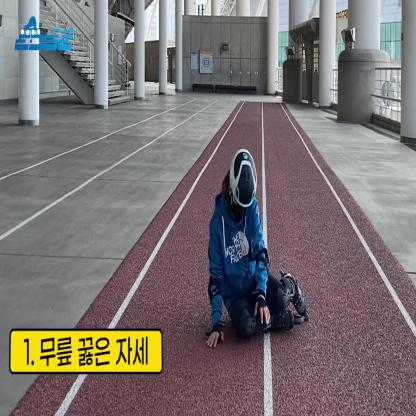Fall_Down: (206, 149, 306, 348)
